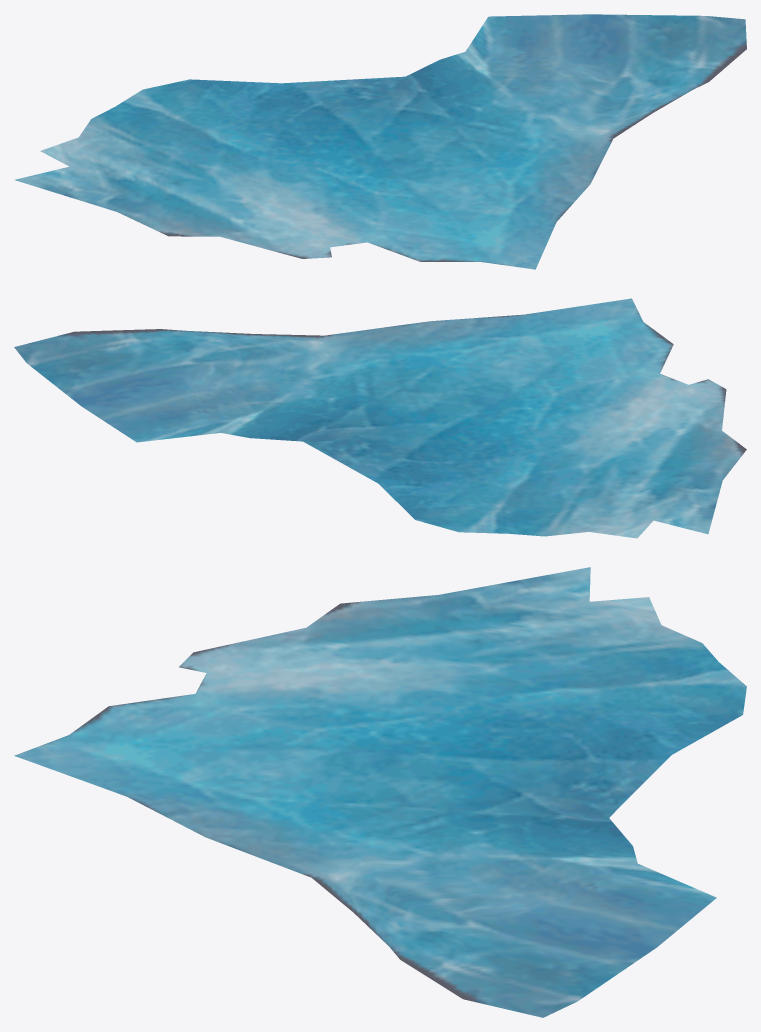
The model's file is 5013_Item_bing_4.FBX.
3 views of the same model, one above another, from view 1: azimuth 30°, elevation 25°; view 2: azimuth 150°, elevation 25°; view 3: azimuth 270°, elevation 25° (orthographic). The views are drawn at different scales.
Visible parts, largest first — view 1: 5013_Item_bing_4; view 2: 5013_Item_bing_4; view 3: 5013_Item_bing_4.
Boxes of the visible parts, <box> form: 5013_Item_bing_4: <box>15,14,746,269</box>; 5013_Item_bing_4: <box>14,298,746,538</box>; 5013_Item_bing_4: <box>14,567,746,1017</box>.
Size of the model in its own units: 577 by 0.6553 by 397.
